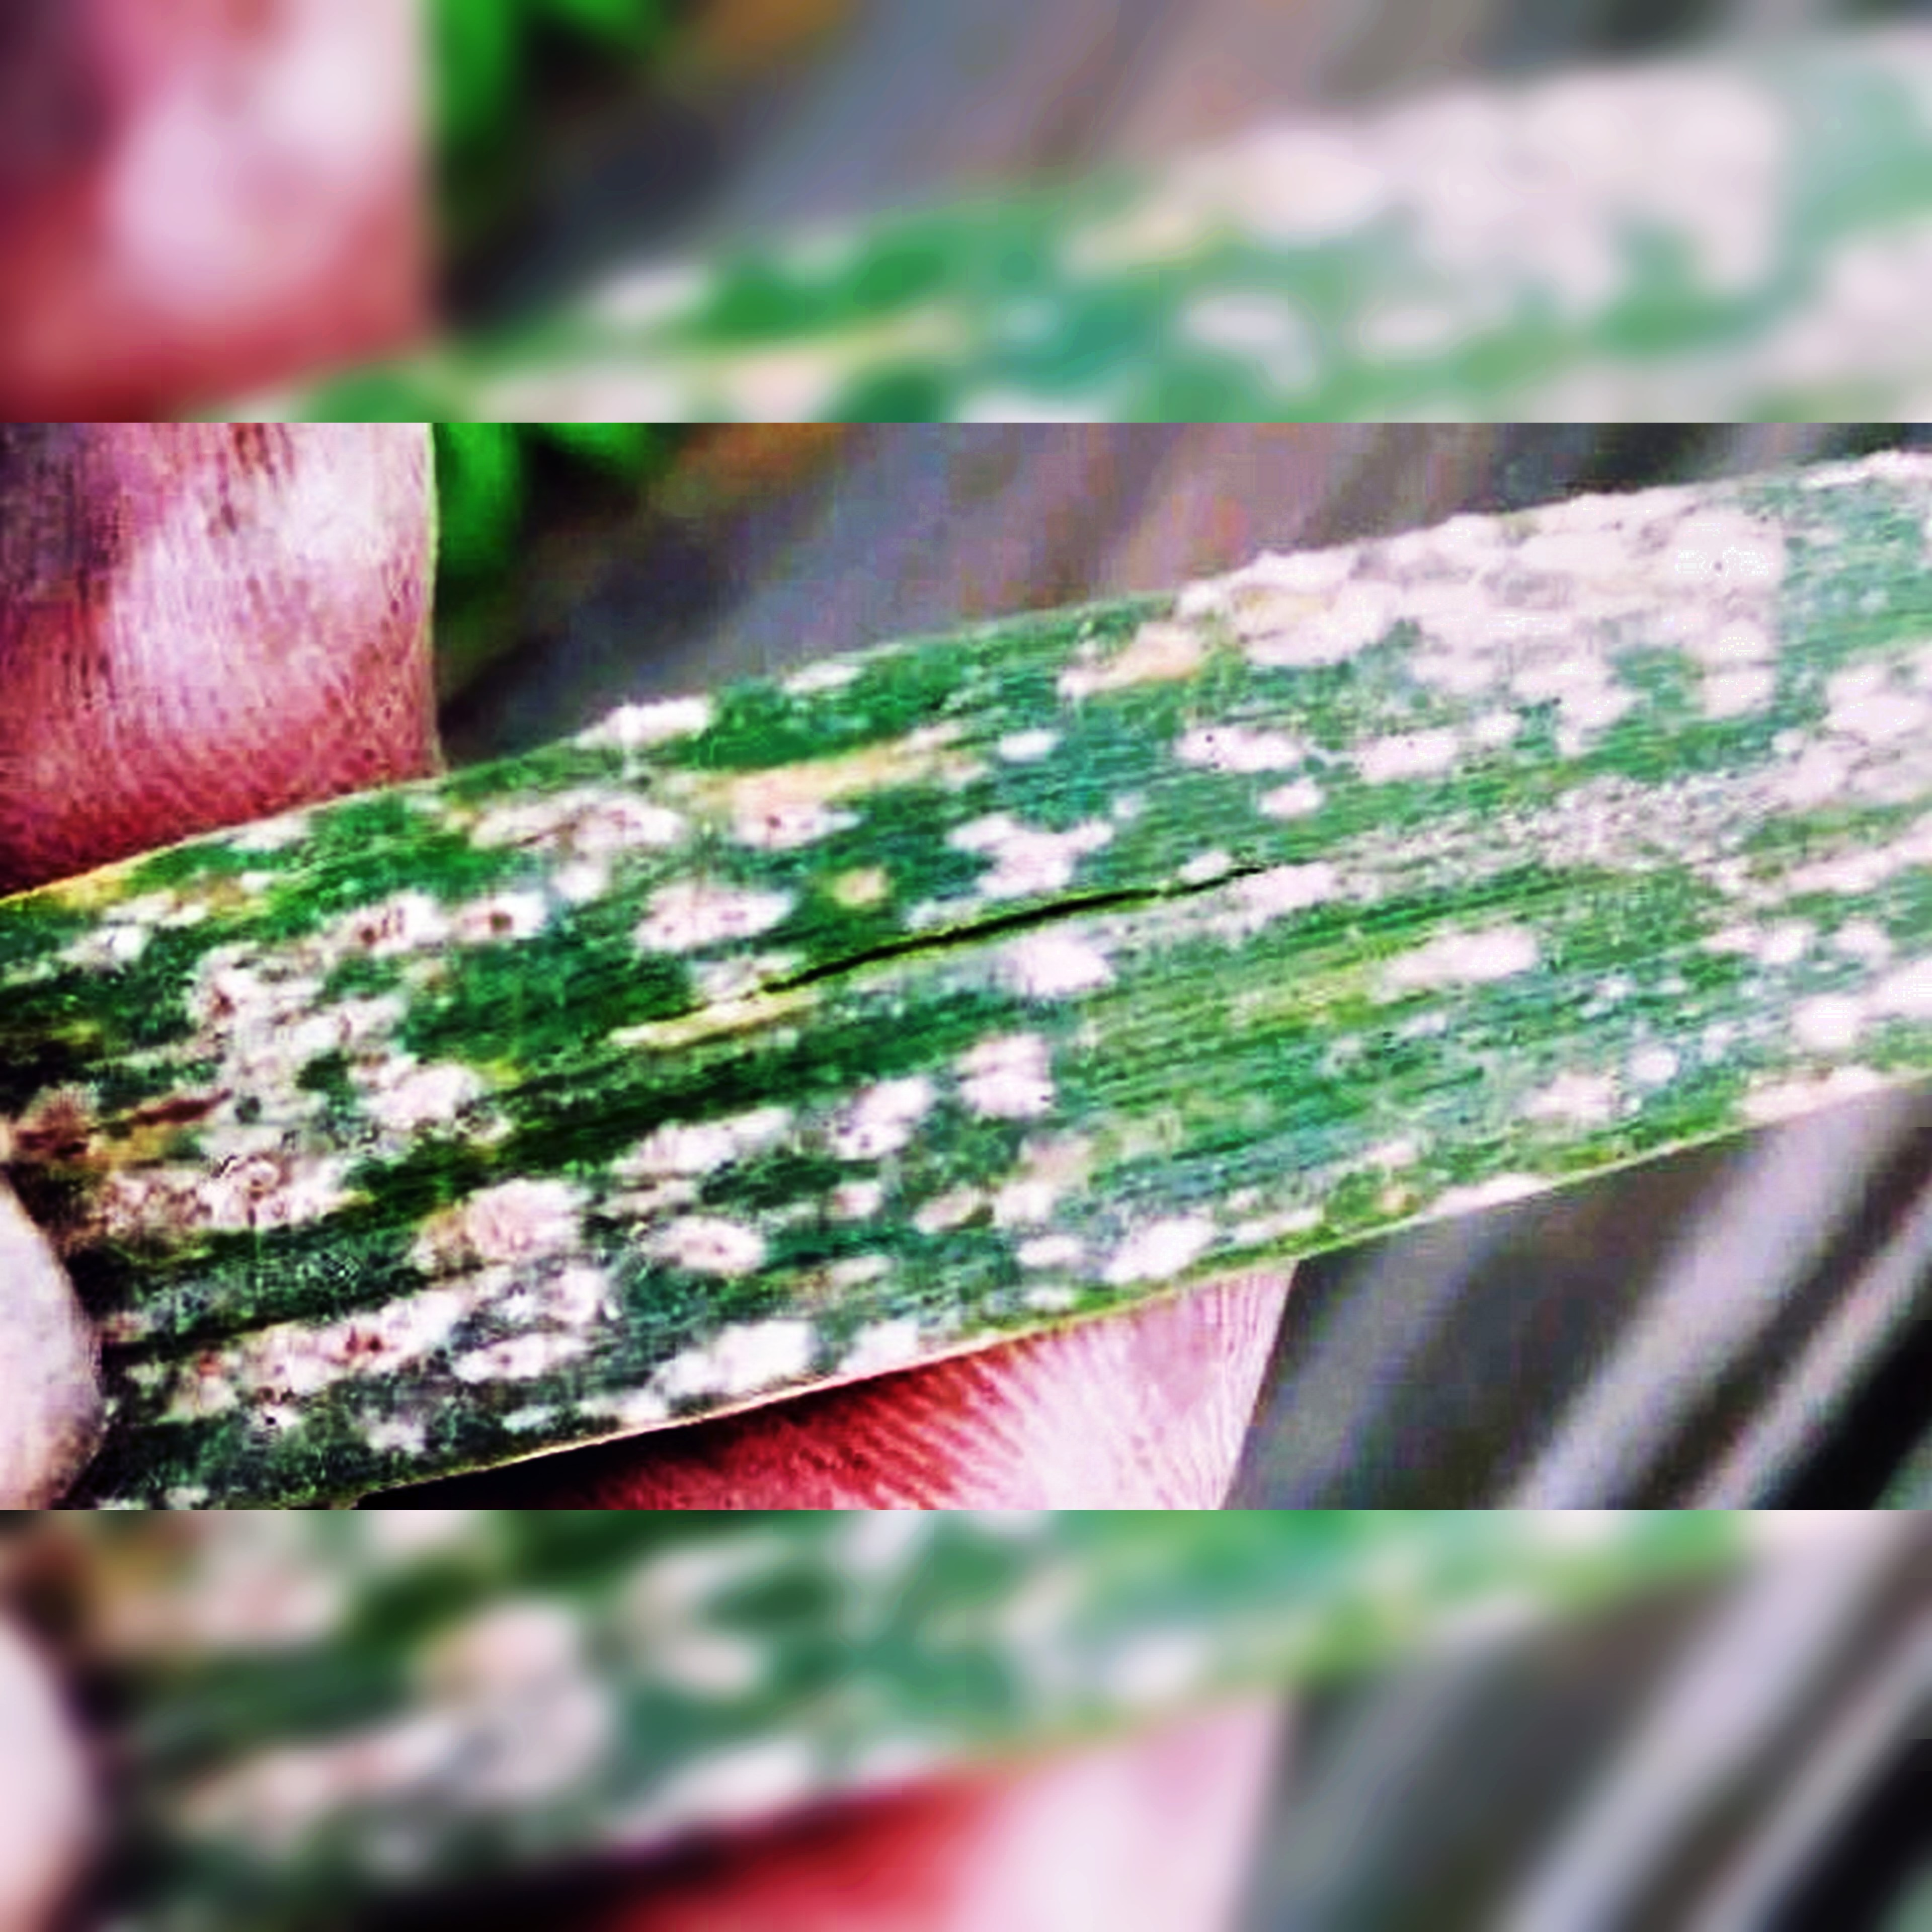Powdery Mildew: (156, 490, 1695, 1468)
